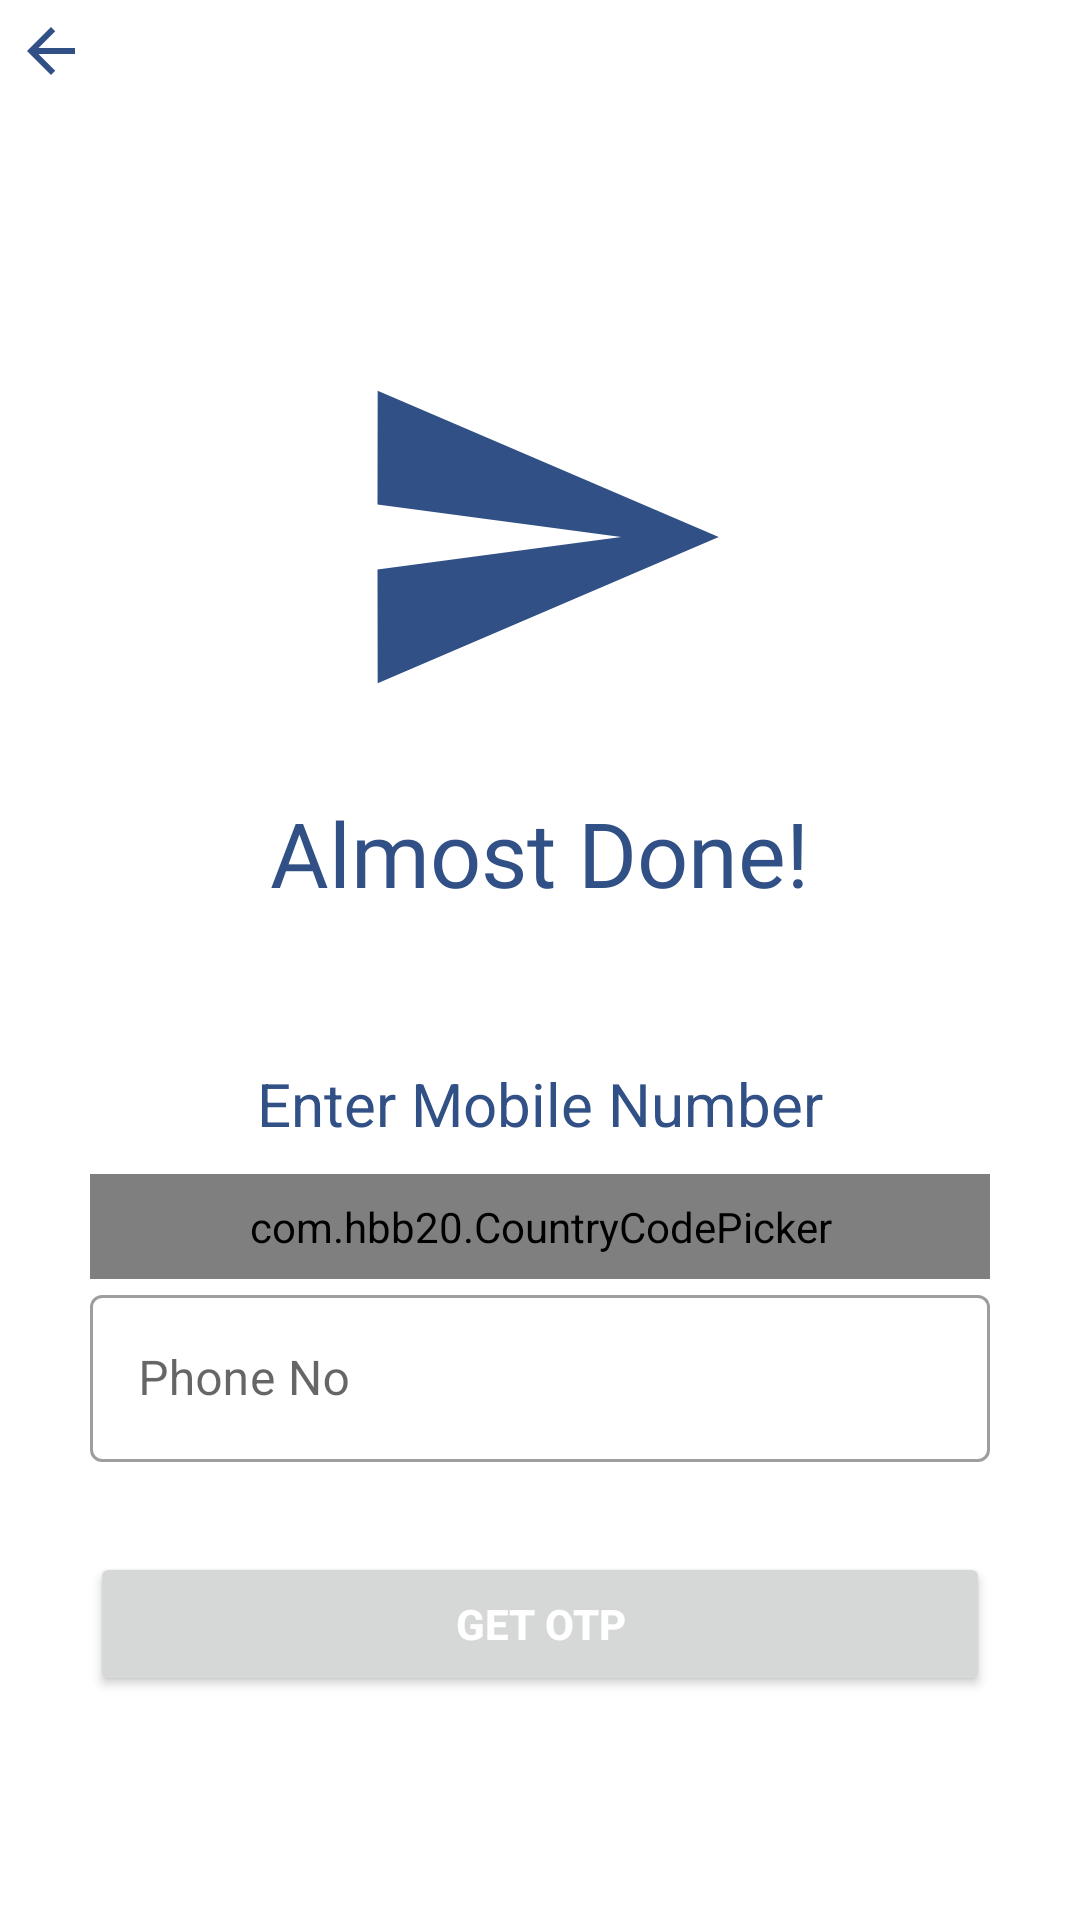

Named icons in this screenshot (1080x1920) and their bounding boxes, (x1, y1, x2, y2):
back: (27, 27, 75, 75)
